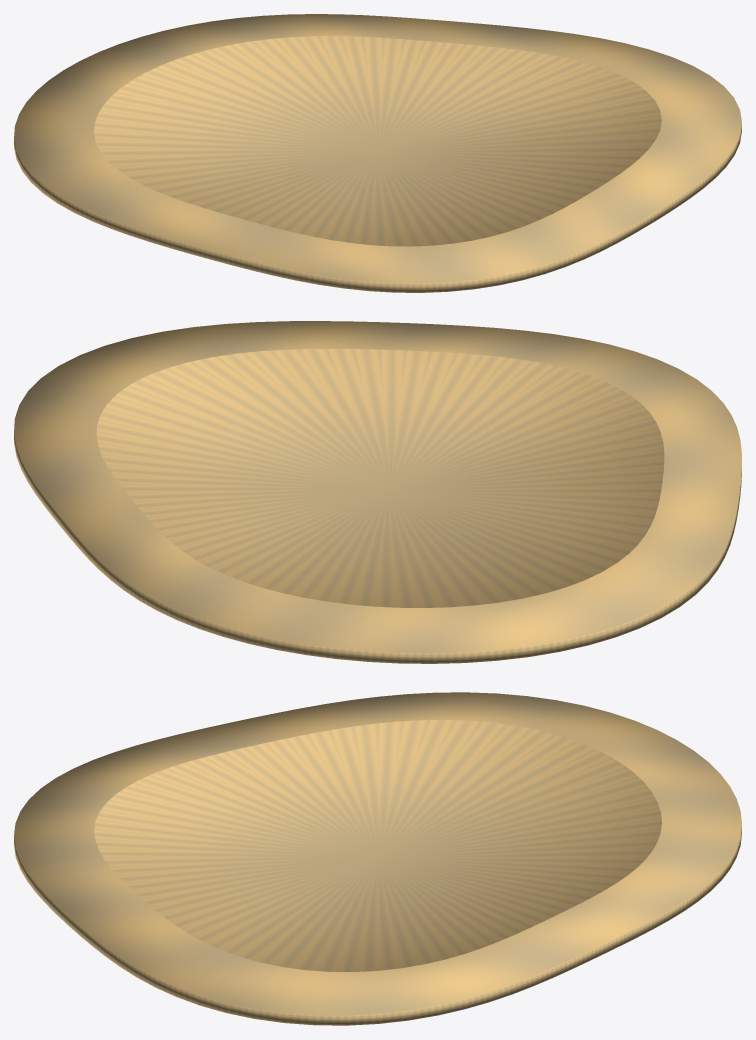
Rendered from ISL-M_LOD0_Beach.fbx.
The picture shows the model from 3 angles, top to bottom: view 1: azimuth 30°, elevation 25°; view 2: azimuth 150°, elevation 25°; view 3: azimuth 270°, elevation 25°; orthographic projection. The views are drawn at different scales.
Parts seen in each view (by area): view 1: ISL-M_LOD0_Beach; view 2: ISL-M_LOD0_Beach; view 3: ISL-M_LOD0_Beach.
Boxes of the visible parts, x1,y1,x2,y2 form: ISL-M_LOD0_Beach: [14, 14, 741, 292]; ISL-M_LOD0_Beach: [14, 321, 741, 663]; ISL-M_LOD0_Beach: [14, 692, 741, 1025].
Size of the model in its own units: 105 by 99.49 by 2.5.
